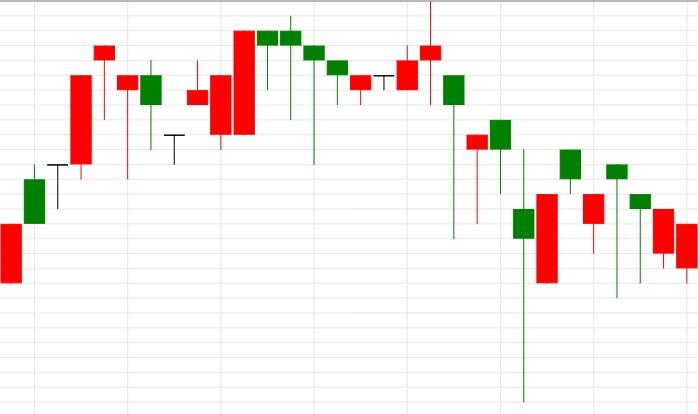hammer_rise: (419, 0, 489, 239)
hanging_man_fall: (0, 45, 116, 283), (163, 30, 279, 164)
three_black_crows_fall: (163, 15, 349, 164)
